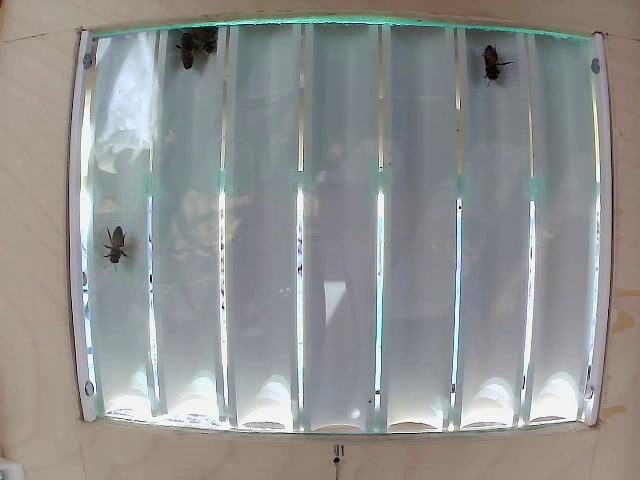bee: (472, 39, 516, 102), (93, 223, 139, 275)
